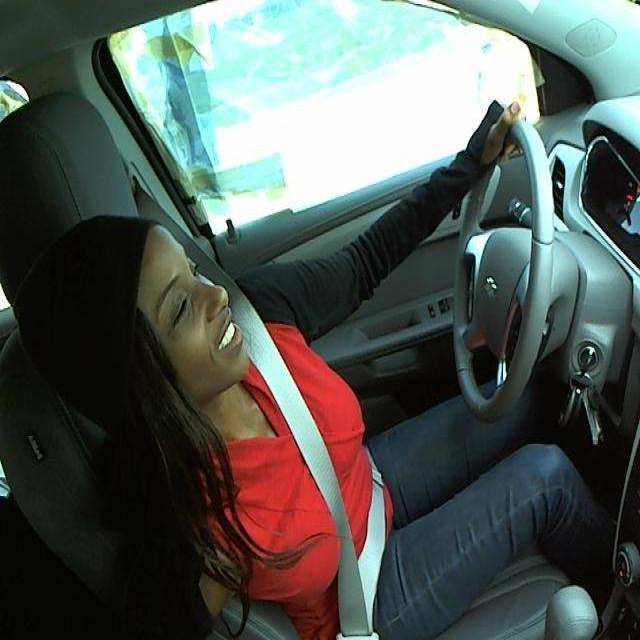seatbelt: (247, 336, 397, 629)
